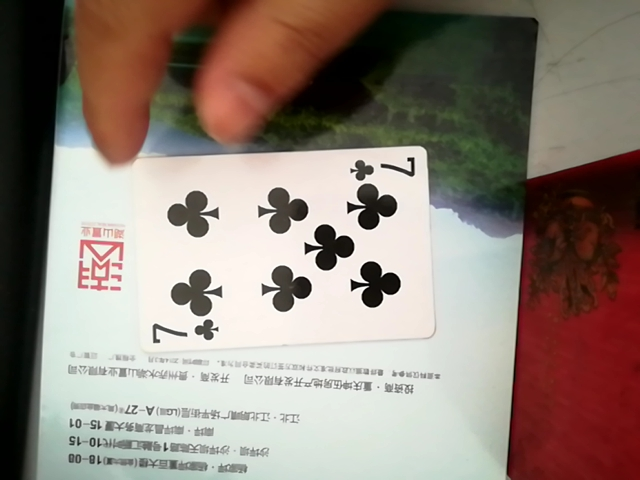mh 7: (74, 144, 435, 356)
